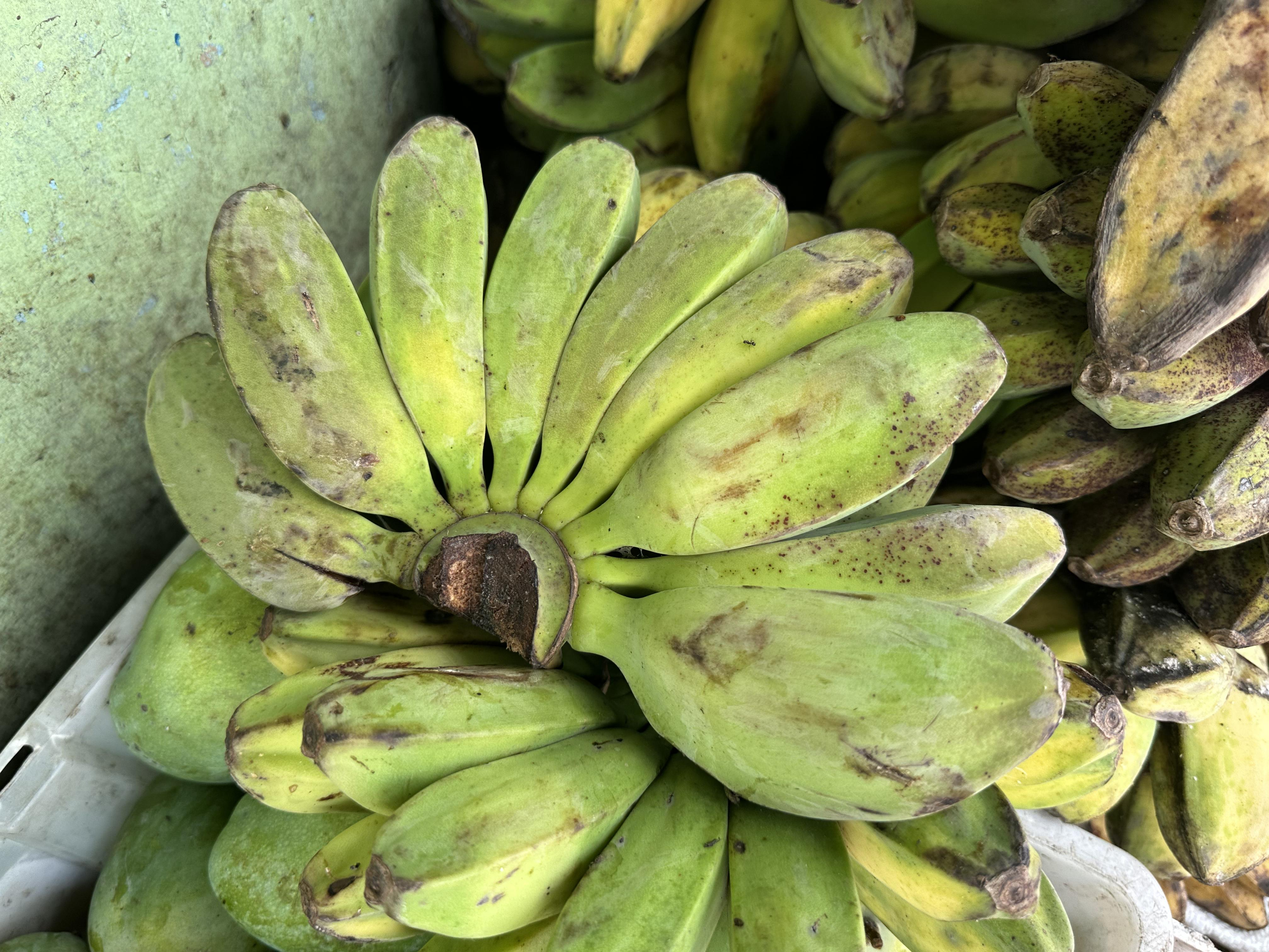underripe: (146, 120, 1067, 820), (224, 592, 1073, 952), (934, 60, 1269, 647), (825, 43, 1059, 311)
